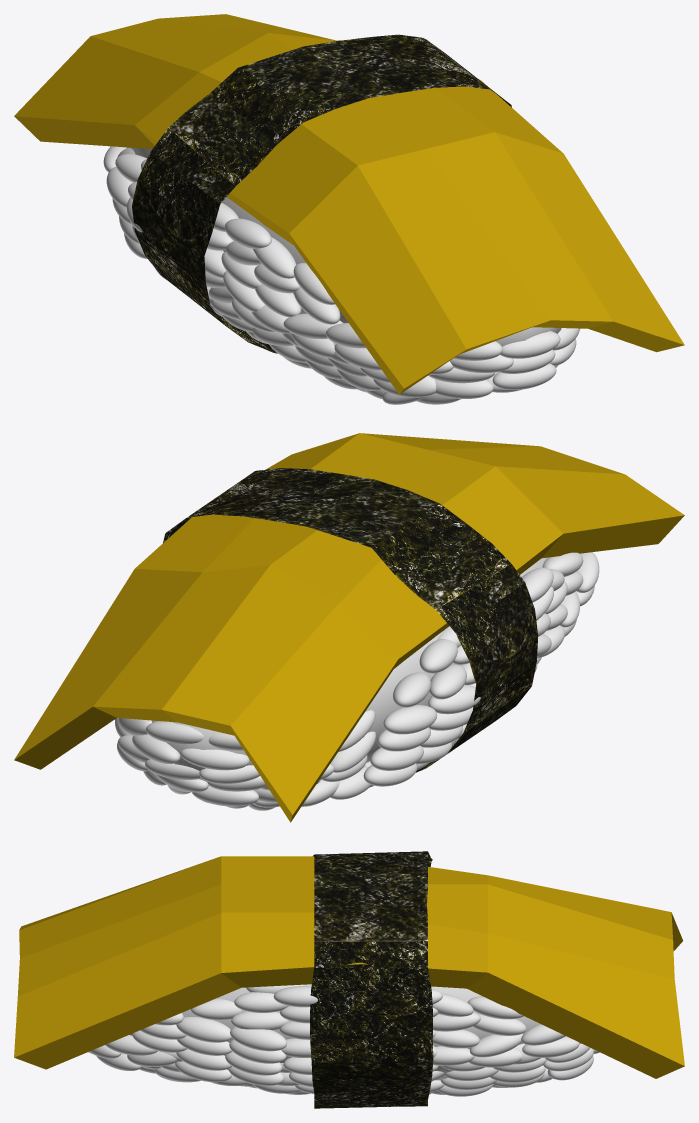
The model's file is tamago2.fbx.
3 views of the same model, one above another, from view 1: azimuth 30°, elevation 25°; view 2: azimuth 150°, elevation 25°; view 3: azimuth 270°, elevation 25° (orthographic). The views are drawn at different scales.
Parts seen in each view (by area): view 1: 平面, 円, 球, 球.134, 球.155, 球.148, 球.158, 球.157, 球.140, 球.141, 球.142, 球.137 (+13 smaller); view 2: 平面, 円, 球, 球.114, 球.174, 球.080, 球.081, 球.167, 球.082, 球.110, 球.168, 球.178 (+11 smaller); view 3: 平面, 円, 球, 球.041, 球.040, 球.073, 球.014, 球.074, 球.013, 球.024, 球.075, 球.045 (+27 smaller).
Part boxes in pixels (x1=…): 平面: x1=14, y1=14, x2=684, y2=394; 円: x1=132, y1=34, x2=511, y2=353; 球: x1=126, y1=147, x2=561, y2=346; 球.134: x1=253, y1=237, x2=296, y2=278; 球.155: x1=500, y1=331, x2=560, y2=358; 球.148: x1=224, y1=218, x2=271, y2=248; 球.158: x1=492, y1=363, x2=556, y2=389; 球.157: x1=434, y1=379, x2=493, y2=398; 球.140: x1=255, y1=284, x2=301, y2=317; 球.141: x1=283, y1=313, x2=343, y2=338; 球.142: x1=294, y1=287, x2=340, y2=324; 球.137: x1=293, y1=263, x2=334, y2=304; 平面: x1=14, y1=433, x2=684, y2=822; 円: x1=163, y1=468, x2=537, y2=772; 球: x1=148, y1=557, x2=547, y2=790; 球.114: x1=383, y1=705, x2=437, y2=734; 球.174: x1=180, y1=748, x2=249, y2=770; 球.080: x1=393, y1=672, x2=430, y2=707; 球.081: x1=419, y1=639, x2=457, y2=673; 球.167: x1=145, y1=721, x2=203, y2=744; 球.082: x1=429, y1=664, x2=466, y2=699; 球.110: x1=370, y1=745, x2=423, y2=770; 球.168: x1=132, y1=734, x2=180, y2=763; 球.178: x1=192, y1=786, x2=258, y2=806; 平面: x1=14, y1=856, x2=684, y2=1078; 円: x1=310, y1=851, x2=433, y2=1108; 球: x1=129, y1=984, x2=539, y2=1080; 球.041: x1=176, y1=1017, x2=231, y2=1042; 球.040: x1=230, y1=1027, x2=287, y2=1051; 球.073: x1=231, y1=1011, x2=288, y2=1030; 球.014: x1=469, y1=1033, x2=523, y2=1057; 球.074: x1=234, y1=992, x2=288, y2=1012; 球.013: x1=473, y1=1014, x2=526, y2=1035; 球.024: x1=522, y1=1036, x2=579, y2=1057; 球.075: x1=191, y1=998, x2=241, y2=1019; 球.045: x1=176, y1=1049, x2=231, y2=1070.
Size of the model in its own units: 240 by 178 by 503.
3 materials, 1 textured.
